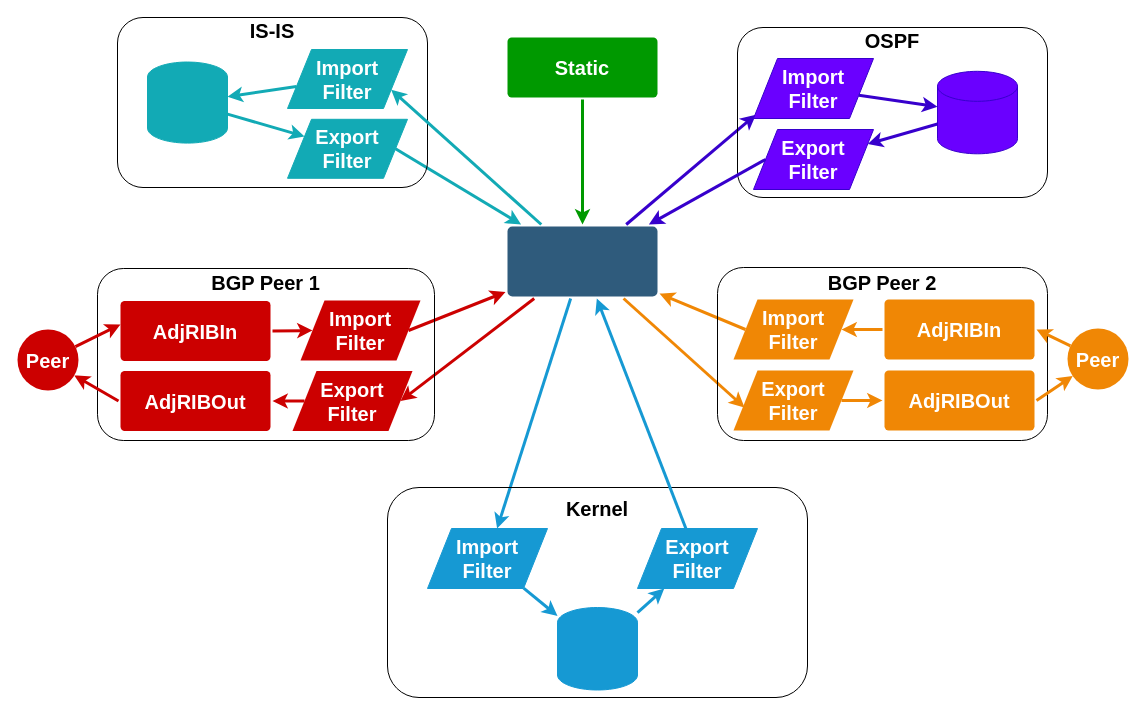
Image size: 1145x715. Some labels were removed from this diagram. The shapes that lost their labels are listed below. From the top down, each one's centre as x and y in pixels, then its label:
At pixel 187 102: "IS-IS RIB".
At pixel 977 112: "OSPF RIB".
At pixel 582 261: "Local RIB".
At pixel 597 648: "FIB".
